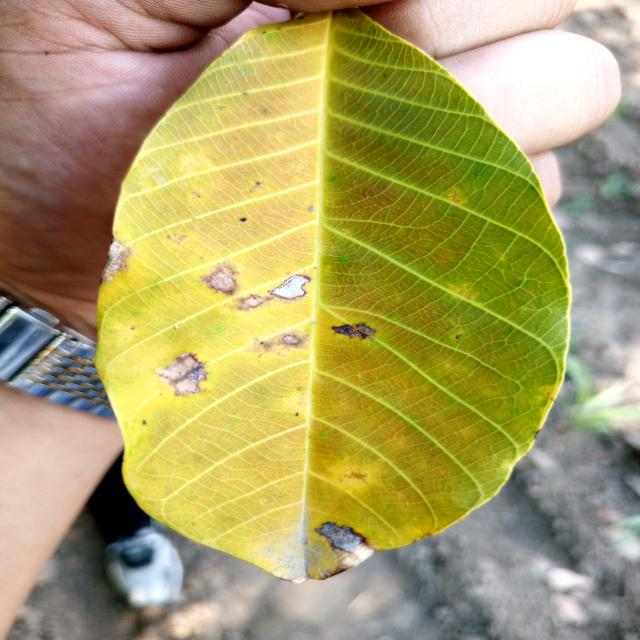Leaf-Blight: (272, 275, 310, 299), (240, 218, 246, 222)
